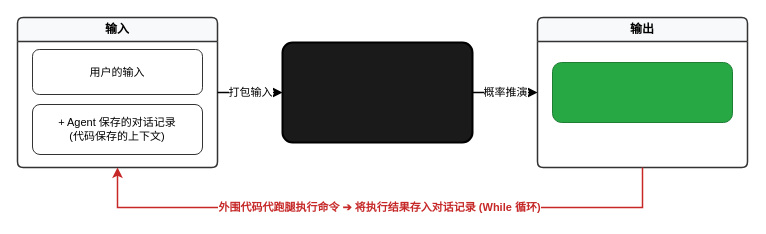
The diagram is 766 pixels wide and 234 high, and some of its shapes have lost their labels. The centre of each missing label's shape, as x and y in pixels:
大概率正确的内容 (执行工具命令 / 回复): (x=642, y=92)
大模型（LLM） 【 概率黑箱 】 （基于统计概率猜词）: (x=377, y=92)
